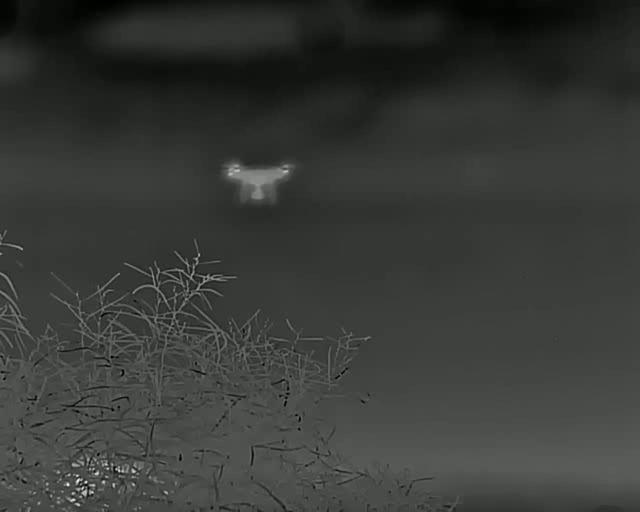DJI-Phantom: (218, 159, 297, 206)
